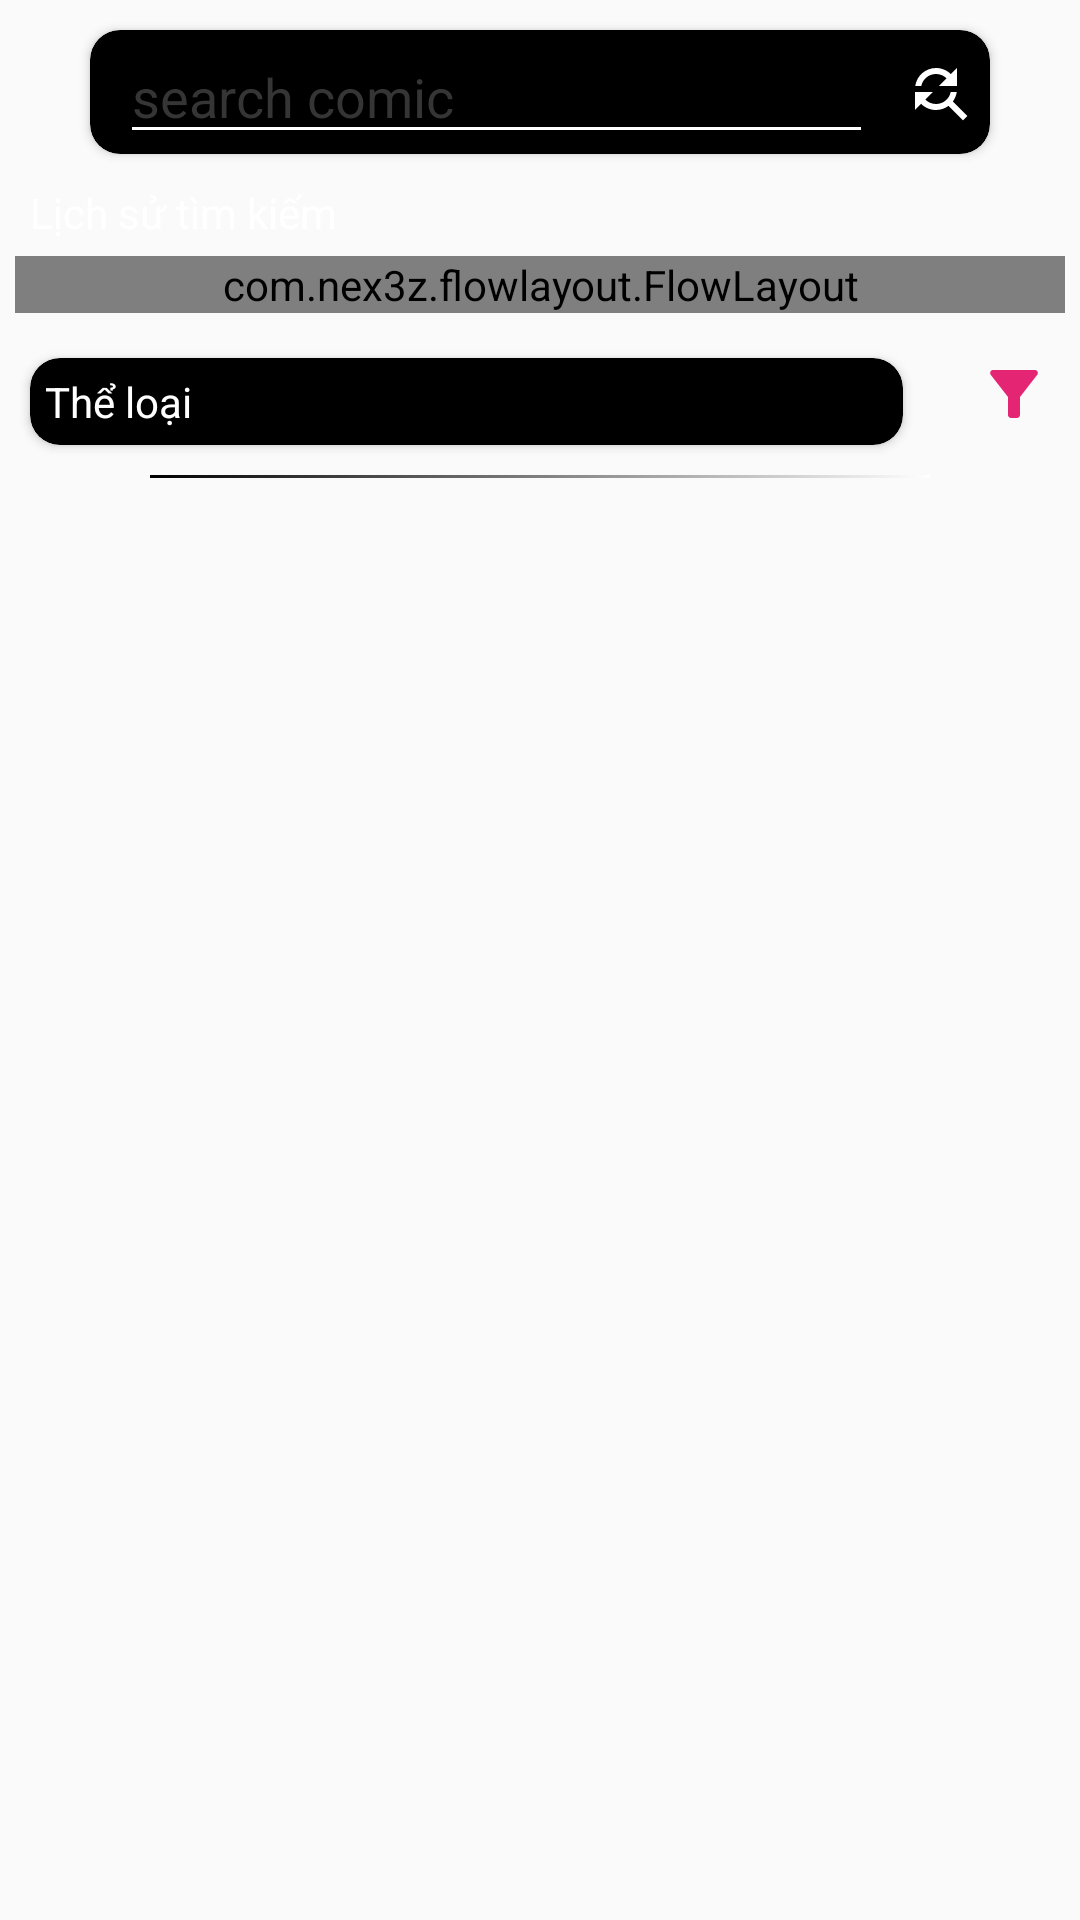

Locate icon controls on the screen. Image size 1080x1920, boxes as [x1=x1, y1=y1, x2=x2, y2=y2].
filter: [x1=990, y1=370, x2=1038, y2=418]
find: [x1=915, y1=68, x2=967, y2=120]
